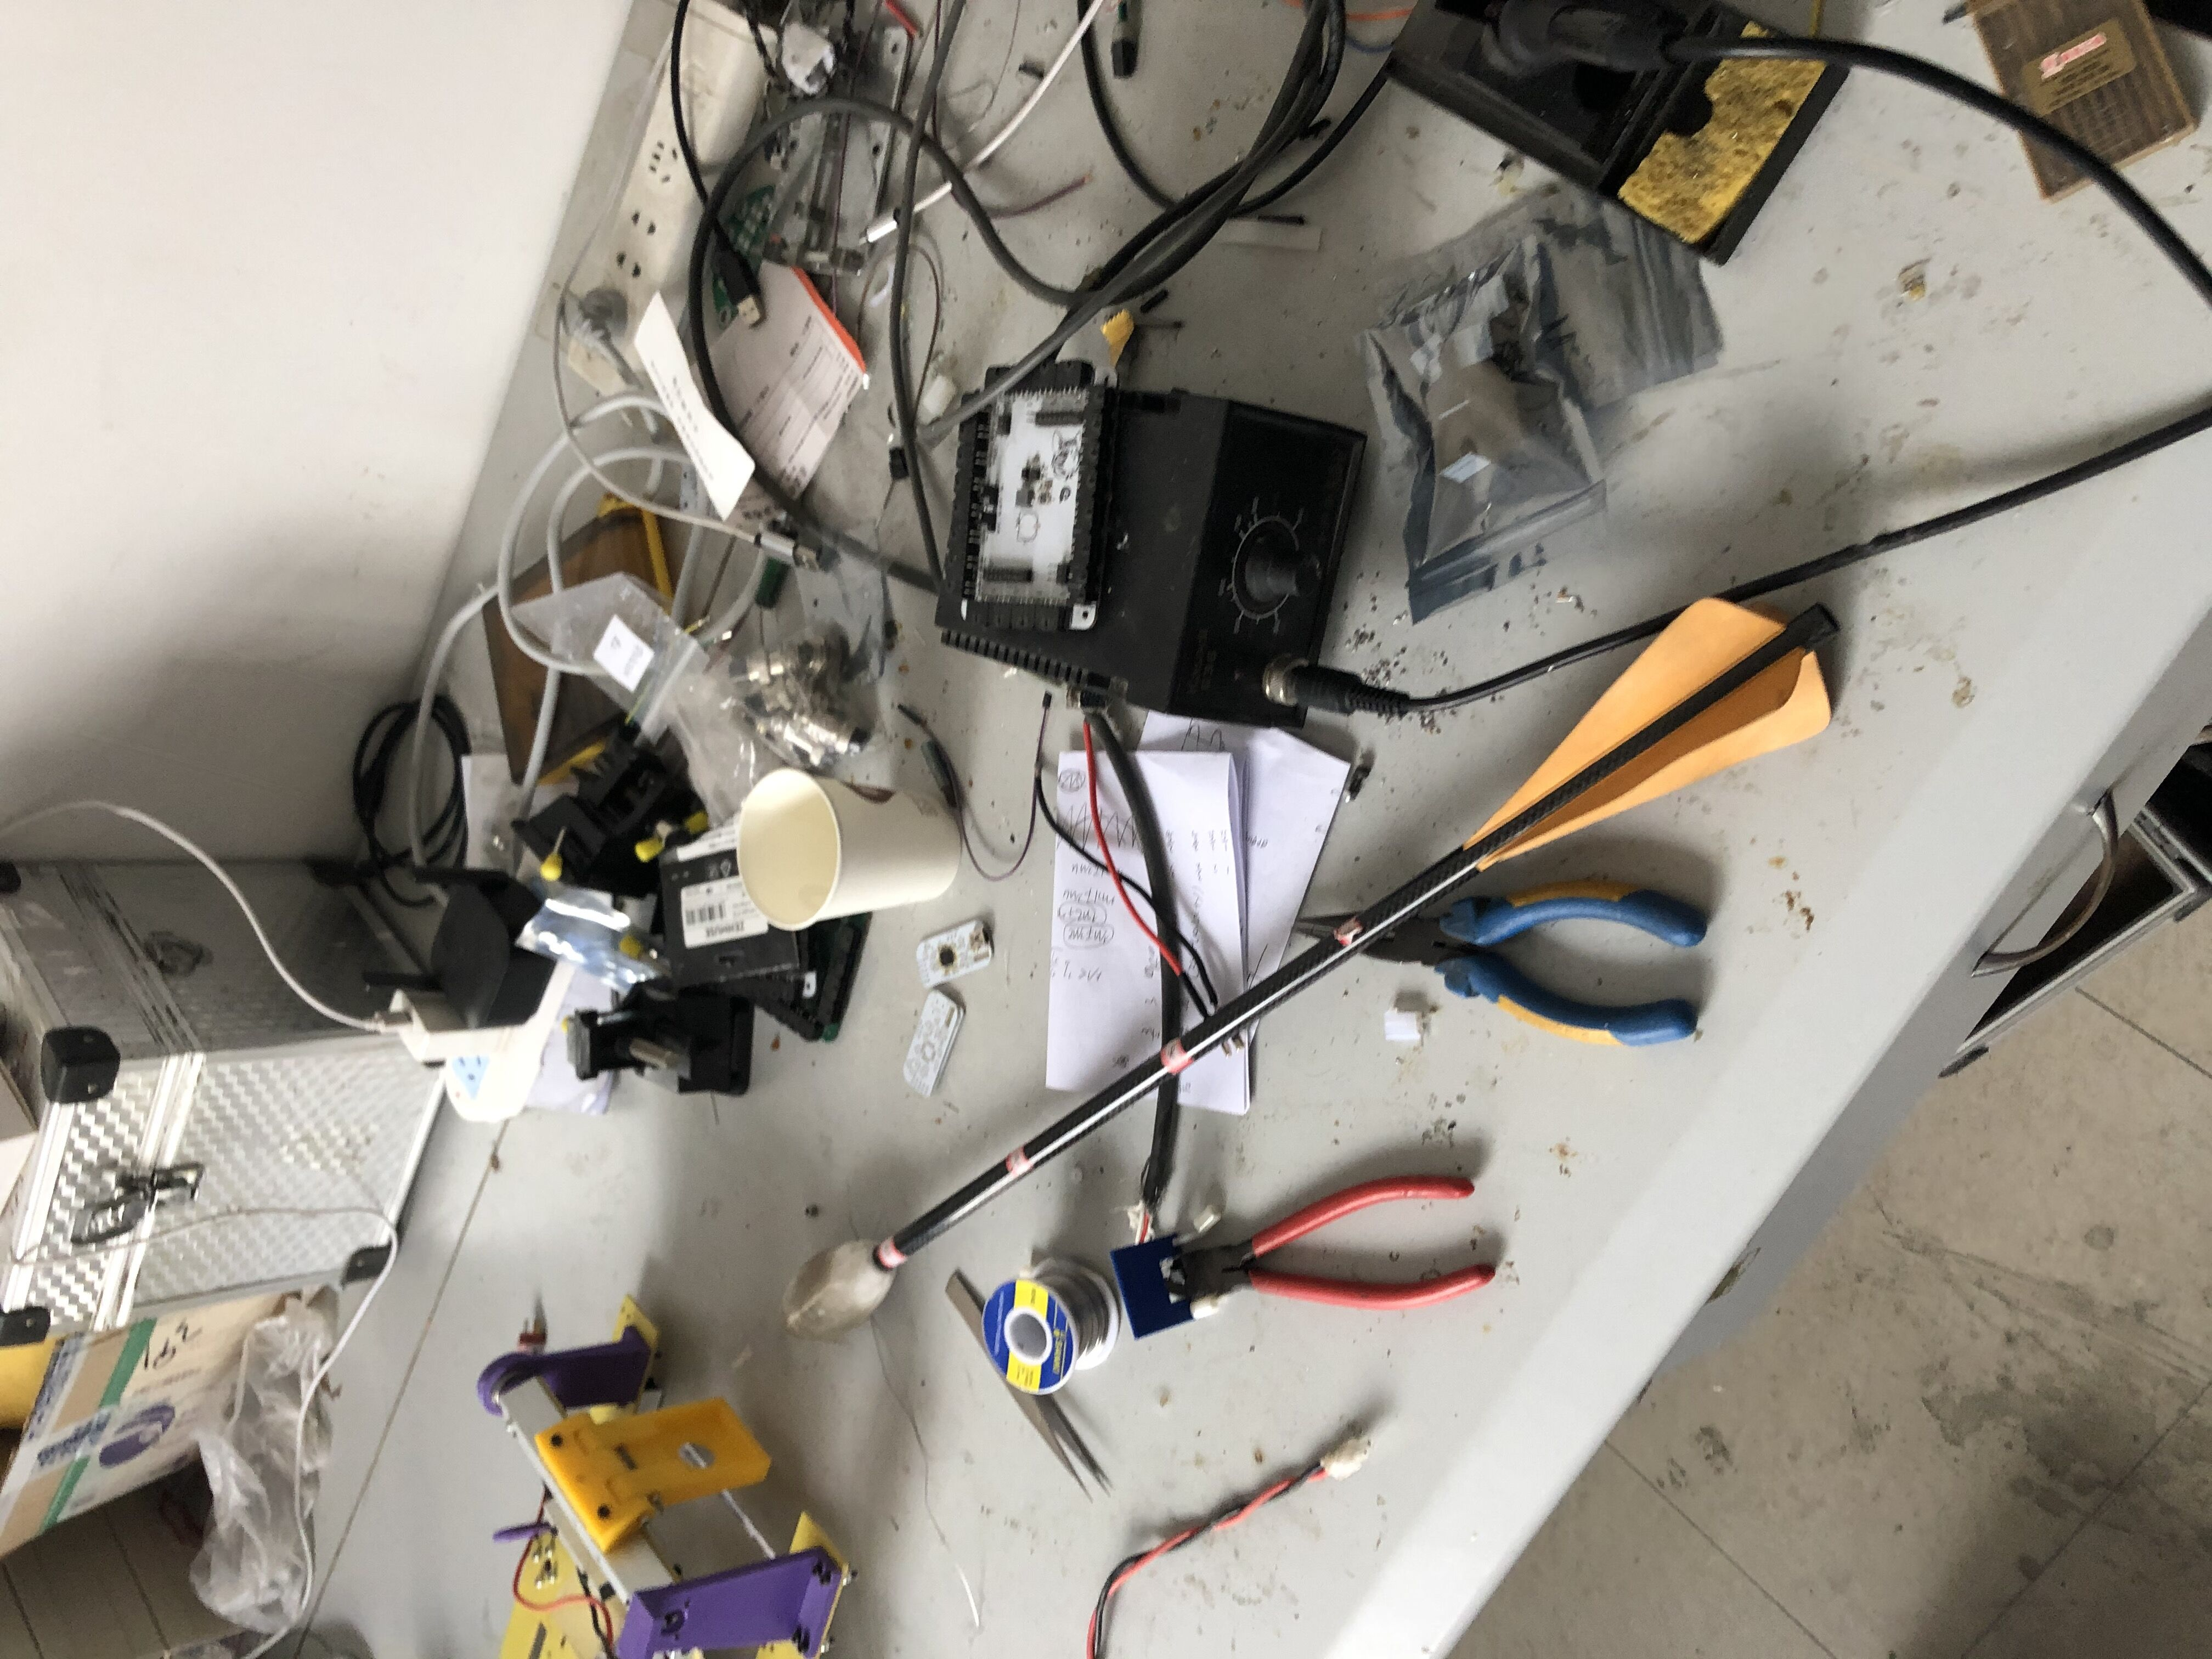arrow: (784, 599, 1839, 1337)
arrowFront: (784, 1234, 900, 1338)
